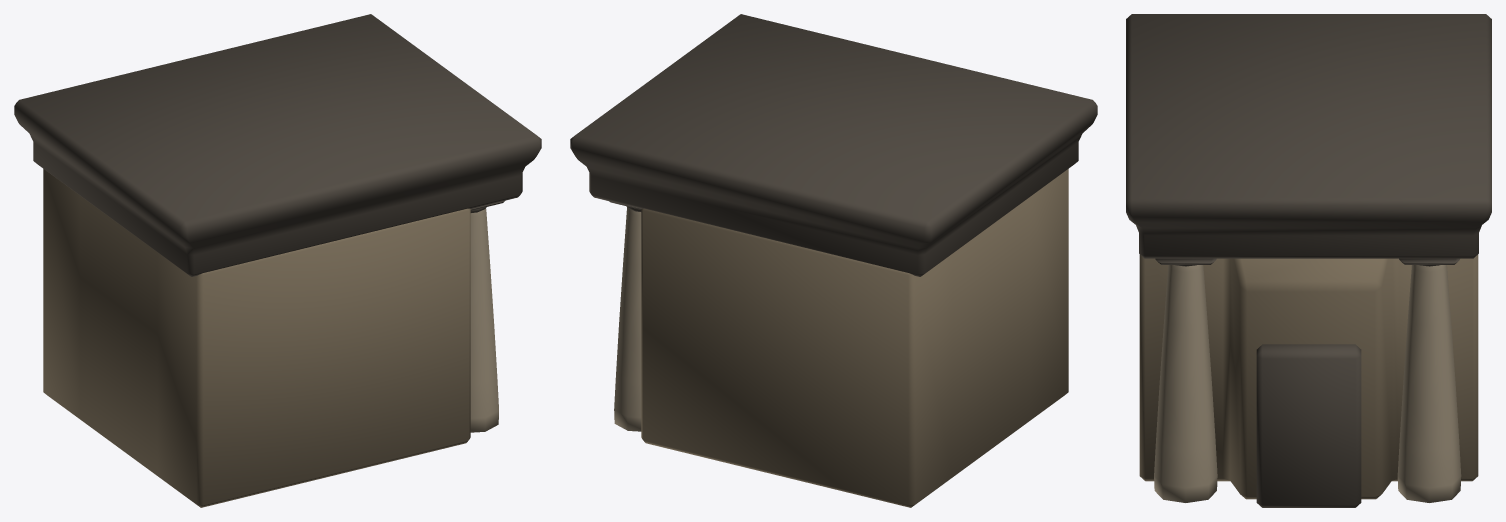
Rendered from SockHouse.fbx.
3 renders of one model, left to right at view 1: azimuth 30°, elevation 25°; view 2: azimuth 150°, elevation 25°; view 3: azimuth 270°, elevation 25°, orthographic. The views are drawn at different scales.
Parts seen in each view (by area): view 1: Cube, Cube.001, Column.001; view 2: Cube, Cube.001, Column; view 3: Cube.001, Cube, Cube.002, Column.001, Column.
Part boxes in pixels (x1=…): Cube: x1=43, y1=169, x2=470, y2=507; Cube.001: x1=14, y1=14, x2=541, y2=276; Column.001: x1=470, y1=201, x2=504, y2=432; Cube: x1=641, y1=169, x2=1068, y2=507; Cube.001: x1=570, y1=14, x2=1097, y2=276; Column: x1=609, y1=201, x2=641, y2=431; Cube.001: x1=1126, y1=14, x2=1491, y2=258; Cube: x1=1139, y1=254, x2=1478, y2=499; Cube.002: x1=1256, y1=344, x2=1361, y2=507; Column.001: x1=1154, y1=258, x2=1217, y2=502; Column: x1=1397, y1=258, x2=1461, y2=502.
Size of the model in its own units: 790 by 621 by 648.
